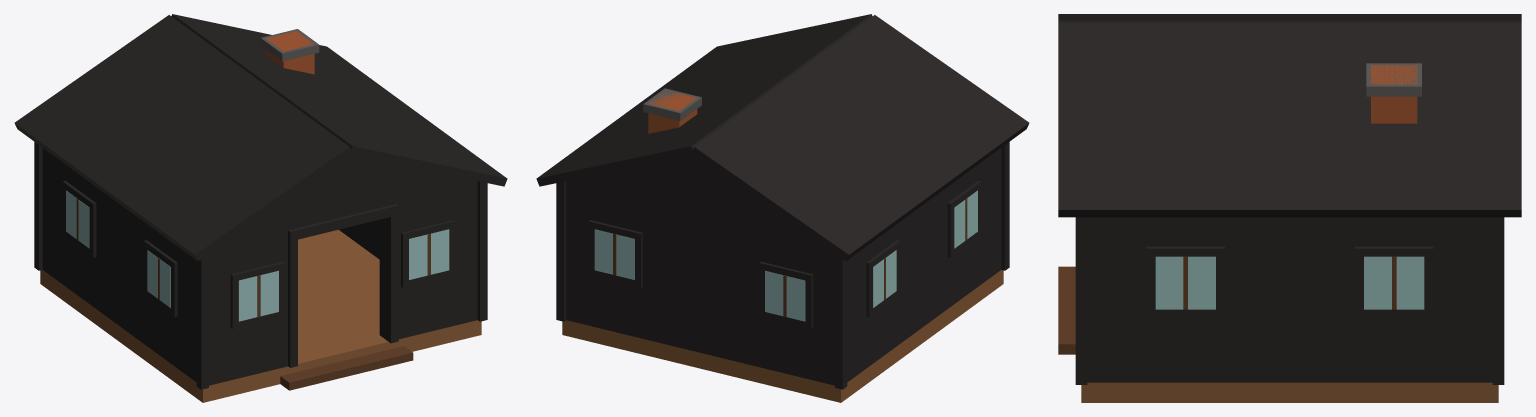
The model's file is HouseSmall.fbx.
The picture shows the model from 3 angles, left to right: view 1: azimuth 30°, elevation 25°; view 2: azimuth 150°, elevation 25°; view 3: azimuth 270°, elevation 25°; orthographic projection. The views are drawn at different scales.
Parts seen in each view (by area): view 1: Roof, Wall, Floor, Trim, Detail; view 2: Roof, Wall, Trim, Detail, Floor; view 3: Roof, Wall, Floor, Detail, Trim.
Boxes of the visible parts, x1,y1,x2,y2 form: Roof: (14, 14, 507, 260); Wall: (42, 148, 477, 385); Floor: (40, 229, 481, 402); Trim: (34, 142, 487, 389); Detail: (66, 29, 449, 321); Roof: (536, 14, 1029, 260); Wall: (566, 148, 1001, 385); Trim: (556, 142, 1009, 389); Detail: (594, 88, 977, 321); Floor: (562, 270, 1003, 402); Roof: (1058, 14, 1521, 217); Wall: (1087, 217, 1492, 382); Floor: (1058, 266, 1498, 402); Detail: (1155, 63, 1424, 309); Trim: (1075, 217, 1504, 384).
Size of the model in its own units: 20 by 14 by 20.
